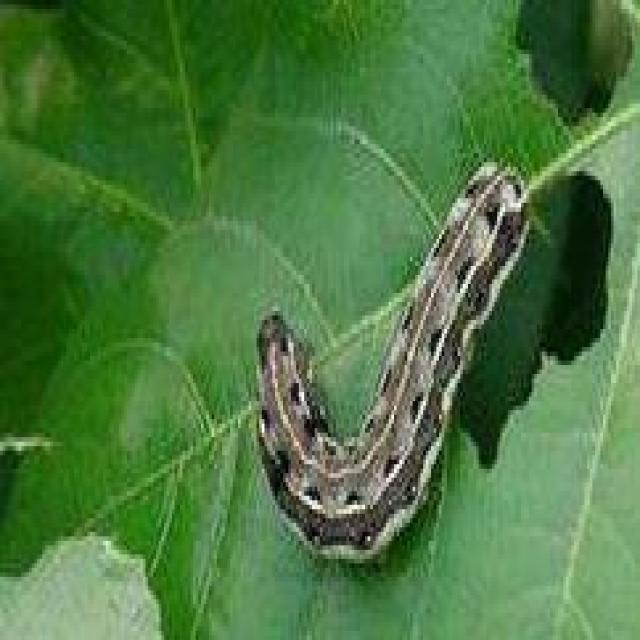BeetArmyWorm-Larva-: (252, 141, 535, 572)
